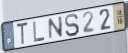2: (81, 11, 96, 35), (98, 8, 112, 31)
L: (32, 20, 47, 43)
N: (48, 15, 64, 42)
S: (64, 13, 81, 38)
T: (15, 20, 29, 46)
